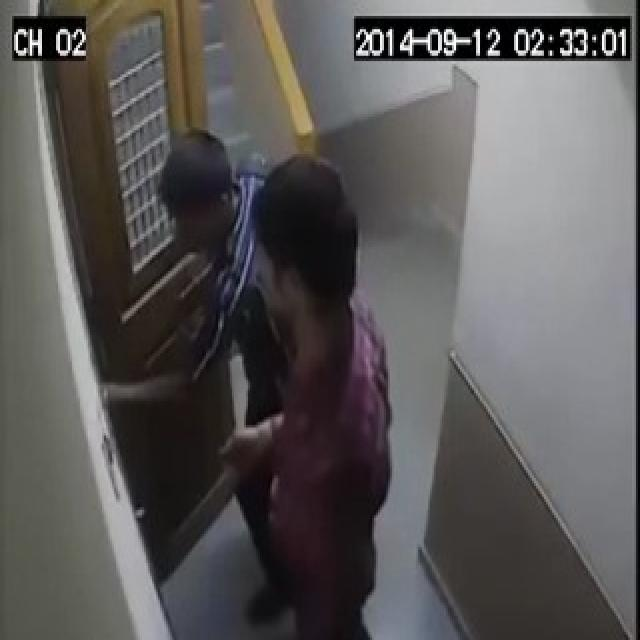burglary: (79, 146, 337, 545)
